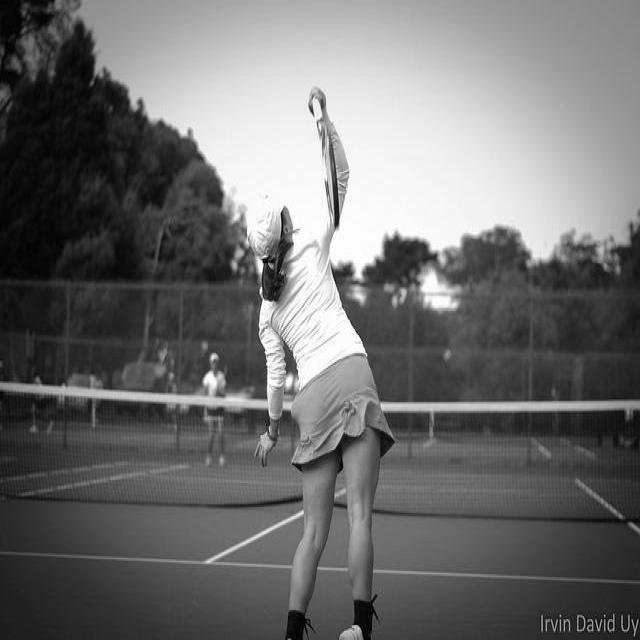vehicle: (119, 362, 171, 393), (58, 374, 96, 416)
